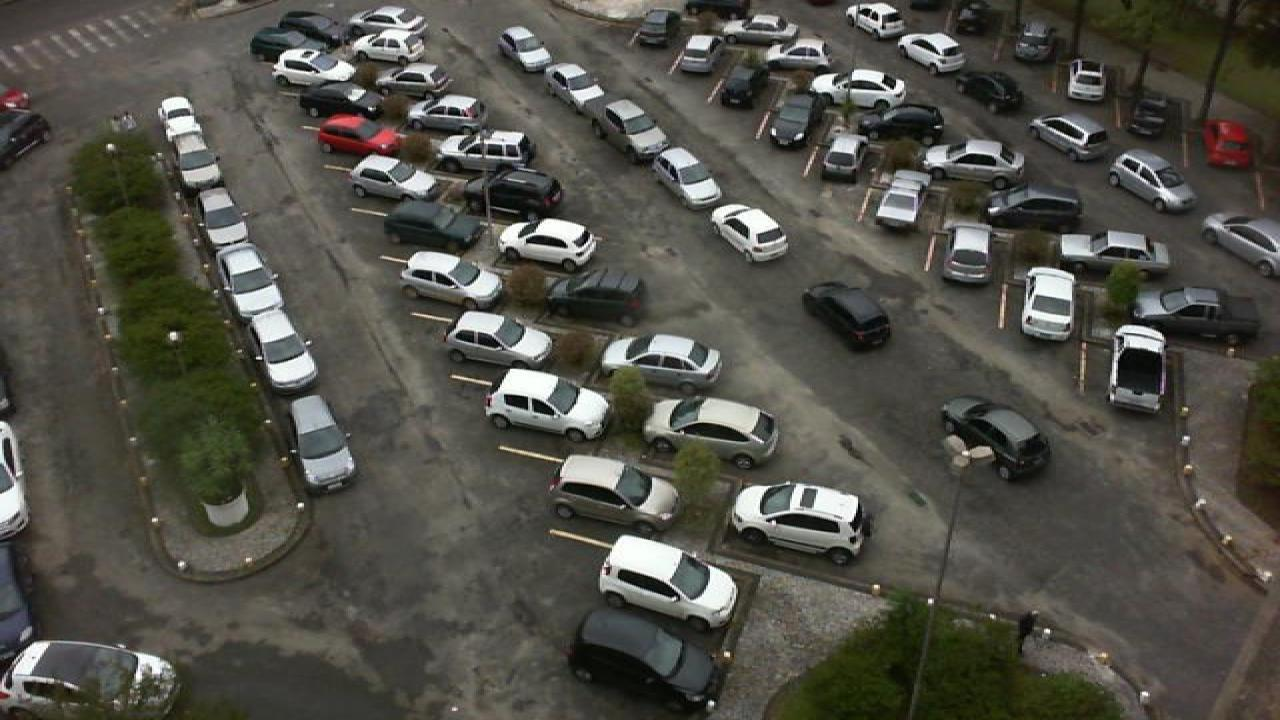Car: (564, 605, 724, 713), (598, 532, 740, 634), (4, 639, 182, 720), (726, 479, 872, 566), (546, 452, 684, 540), (642, 393, 782, 472), (938, 393, 1056, 482), (480, 367, 612, 444), (1128, 286, 1262, 348), (596, 333, 724, 395), (438, 308, 556, 373), (284, 393, 358, 494), (798, 280, 894, 353), (400, 250, 504, 314), (496, 217, 602, 276), (544, 268, 646, 327), (1104, 323, 1170, 413), (1198, 210, 1280, 282), (380, 196, 482, 253), (1056, 229, 1172, 279), (1108, 151, 1198, 215), (250, 308, 318, 390), (984, 182, 1088, 232), (710, 202, 792, 264), (350, 154, 438, 208), (1018, 267, 1080, 343), (652, 146, 724, 210), (922, 138, 1024, 182), (484, 167, 564, 222), (440, 130, 534, 174), (1028, 114, 1110, 163), (870, 169, 932, 233), (810, 71, 908, 111), (940, 220, 998, 284), (228, 279, 286, 342), (318, 114, 404, 156), (272, 47, 356, 90), (764, 93, 822, 151), (408, 93, 488, 135), (950, 66, 1022, 112), (200, 187, 256, 245), (894, 30, 966, 74), (600, 115, 658, 169), (862, 105, 946, 142), (216, 242, 268, 301), (548, 61, 608, 110), (1200, 118, 1254, 172), (248, 27, 326, 64), (348, 30, 428, 66), (816, 131, 870, 182), (294, 84, 370, 120), (498, 25, 554, 73), (182, 146, 236, 195), (350, 4, 430, 36), (1128, 91, 1178, 142), (760, 37, 834, 71), (716, 62, 768, 110), (844, 0, 906, 38), (1062, 56, 1110, 105), (164, 112, 216, 156), (674, 32, 726, 76), (380, 61, 450, 93), (278, 10, 346, 40), (1014, 19, 1058, 63), (730, 10, 790, 41), (632, 7, 678, 47), (156, 96, 198, 132), (954, 0, 992, 36)
